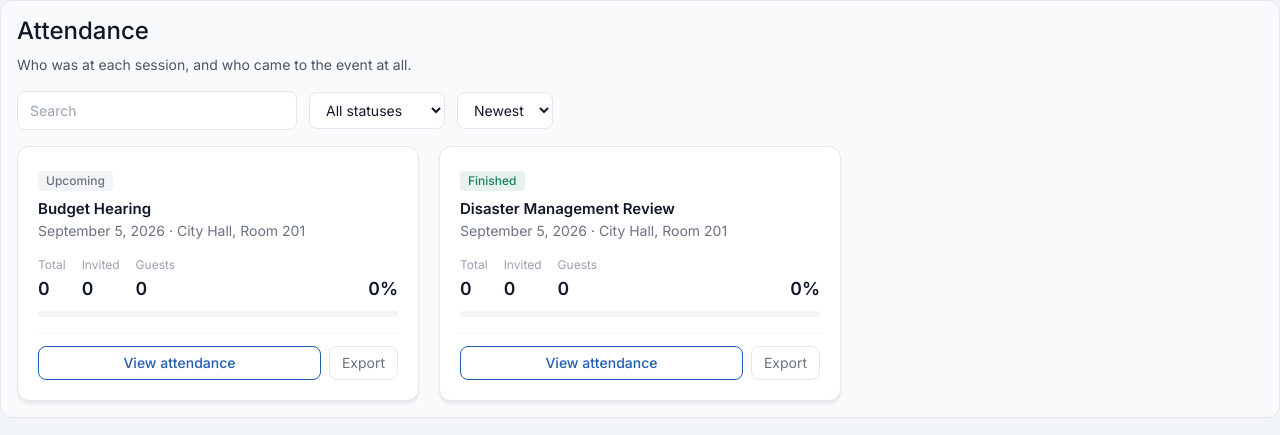
Test: the attendance grid › narrows it by how the event stands
The width and height of the screenshot is (1280, 435).
Check: the heading "Budget Hearing" is shown, box 38,199 -> 151,218
Select "Upcoming" in the dropdown named "Status" at (377, 110), box 309,92 -> 445,129
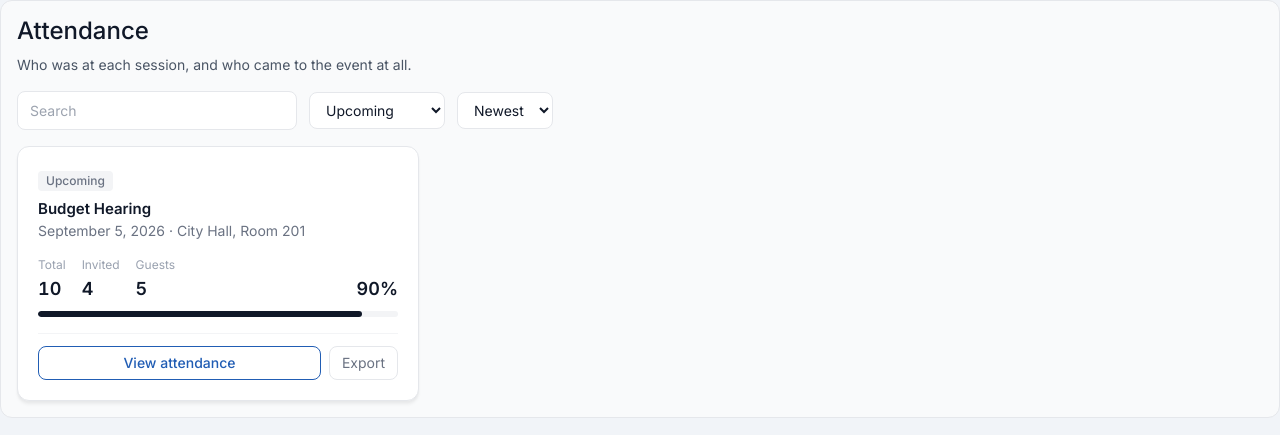
Check: the heading "Budget Hearing" is shown, box 38,199 -> 151,218
Check: the heading "Disaster Management Review" is gone
